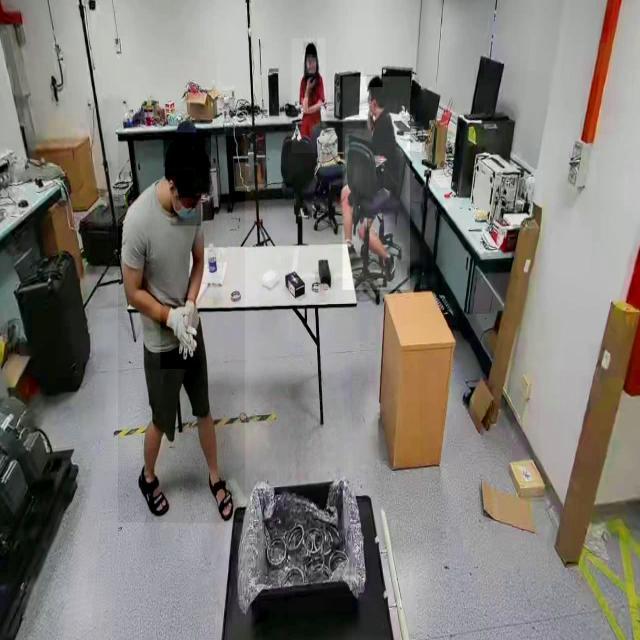face_mask: (171, 196, 201, 226)
face_nomask: (306, 58, 316, 74)
hand_glove: (161, 298, 193, 370)
hand_noglove: (305, 76, 315, 90), (301, 98, 309, 114)
head_nohelmet: (164, 132, 212, 168), (367, 75, 383, 88), (304, 42, 318, 55)
person: (118, 136, 246, 524), (342, 77, 410, 290), (292, 38, 326, 154)
